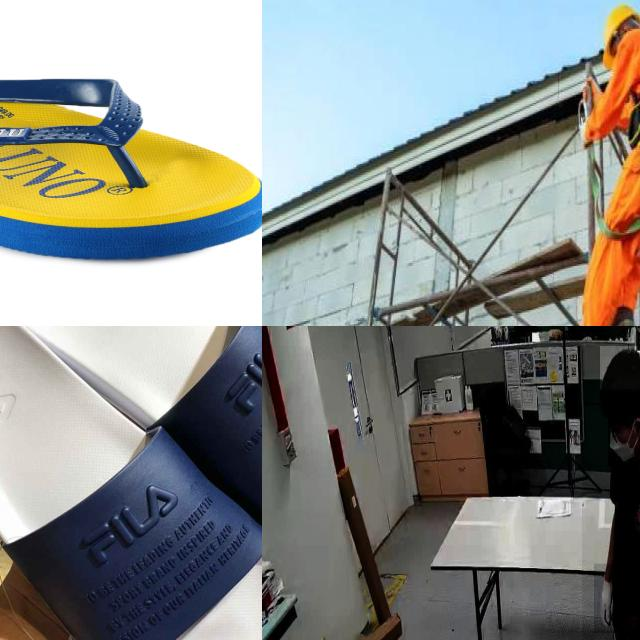Harness: (622, 29, 640, 218)
Sandals: (0, 326, 262, 640), (0, 26, 262, 262)
face_mask: (608, 405, 640, 466)
hand_glove: (594, 564, 618, 633)
head_nohelmet: (600, 345, 640, 390)
person: (582, 344, 640, 640)
